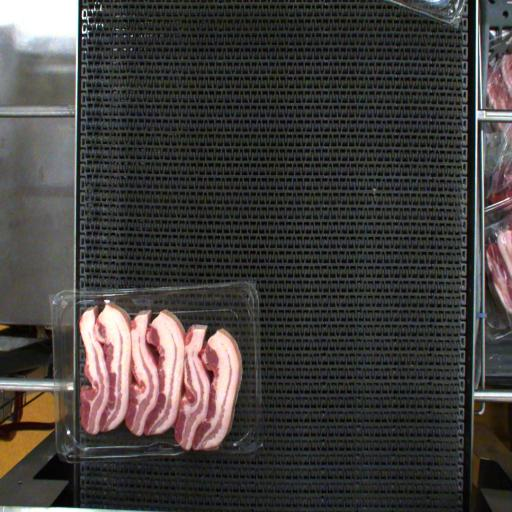packaging-error: (132, 296, 154, 316)
